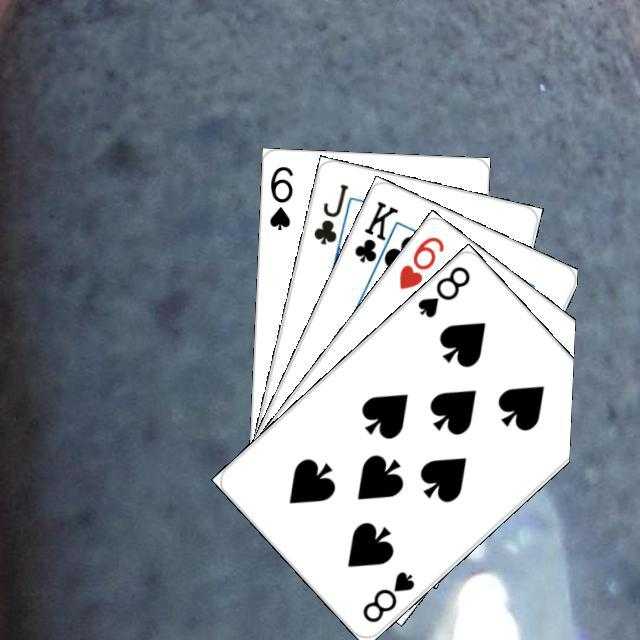6h: (393, 231, 446, 291)
6s: (265, 161, 294, 232)
8s: (412, 260, 472, 320), (357, 566, 417, 625)
Jc: (308, 179, 350, 247)
Kc: (349, 196, 402, 277)
